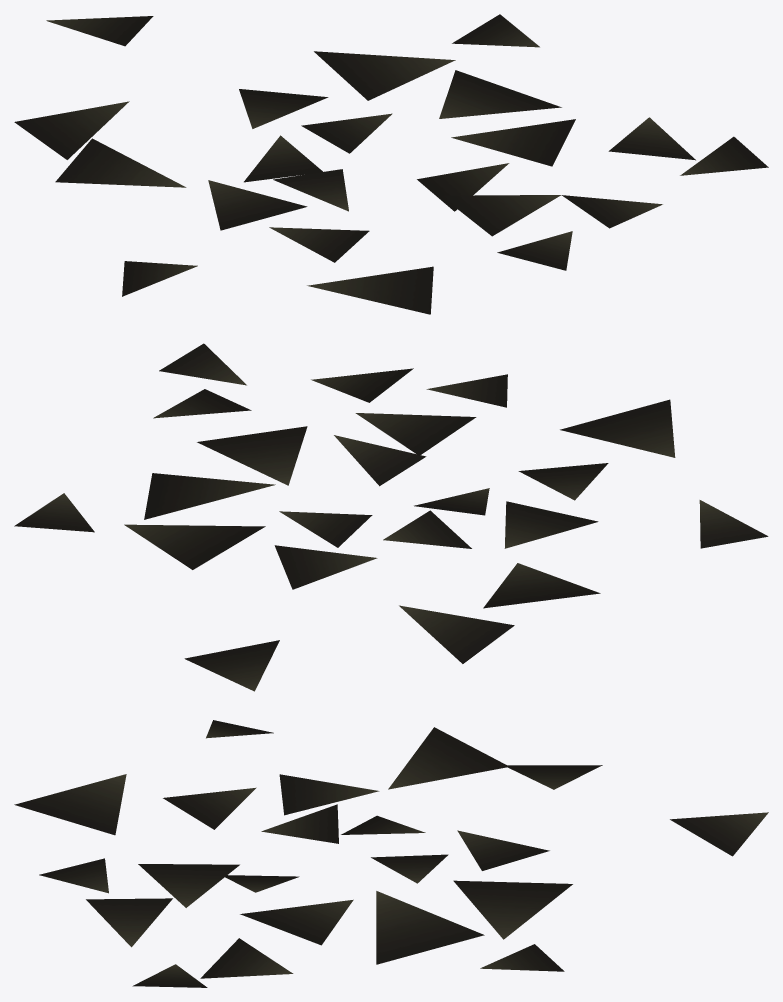
Rendered from environment_scattered_leaves_b.fbx.
3 renders of one model, top to bottom at view 1: azimuth 30°, elevation 25°; view 2: azimuth 150°, elevation 25°; view 3: azimuth 270°, elevation 25°, orthographic. The views are drawn at different scales.
Parts seen in each view (by area): view 1: scatted_leaves_b; view 2: scatted_leaves_b; view 3: scatted_leaves_b.
Part boxes in pixels (x1,y1,x2,y2): scatted_leaves_b: (14,14,768,314); scatted_leaves_b: (14,343,768,691); scatted_leaves_b: (14,720,768,987).
Size of the model in its own units: 949 by 29.59 by 1077.
